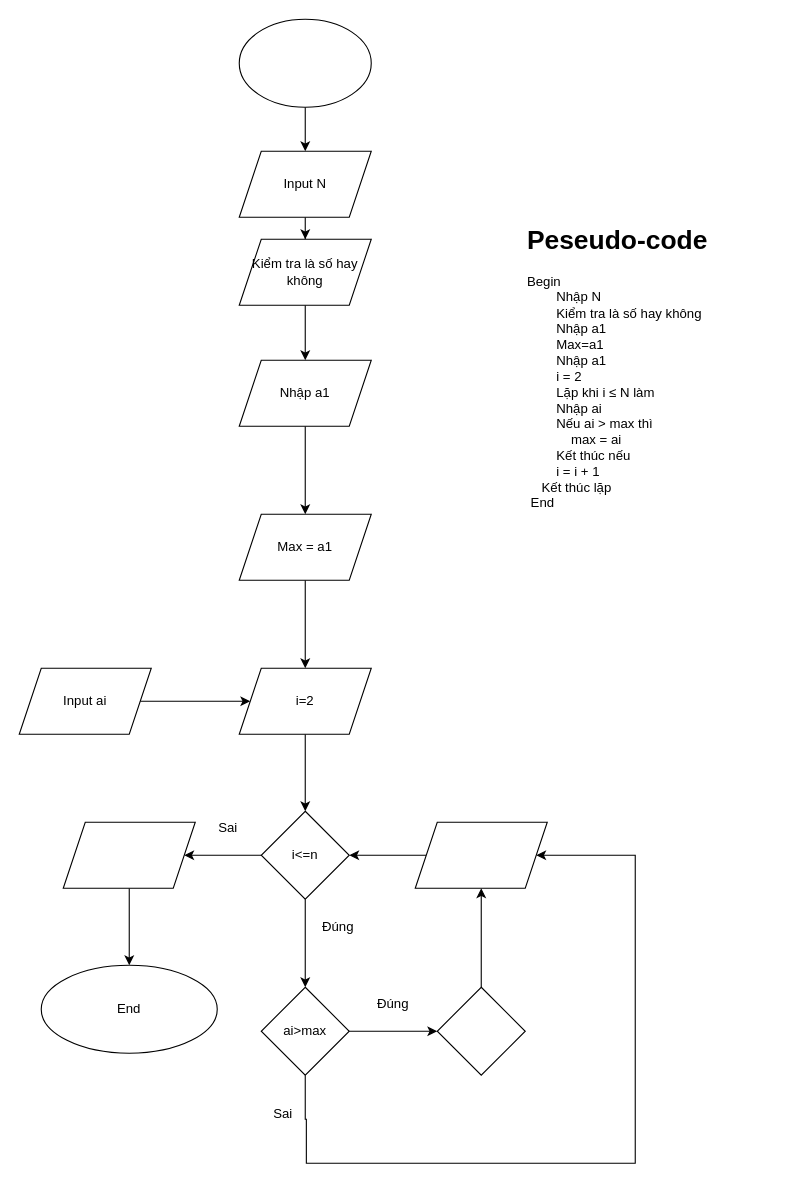
Some shapes in this 787 by 1191 pixel diagram are drawn without their labels. Each missing label, with the centre of its shape:
Display Max: (x=128, y=854)
i+1: (x=480, y=854)
max=ai: (x=480, y=1030)
Start: (x=304, y=62)
